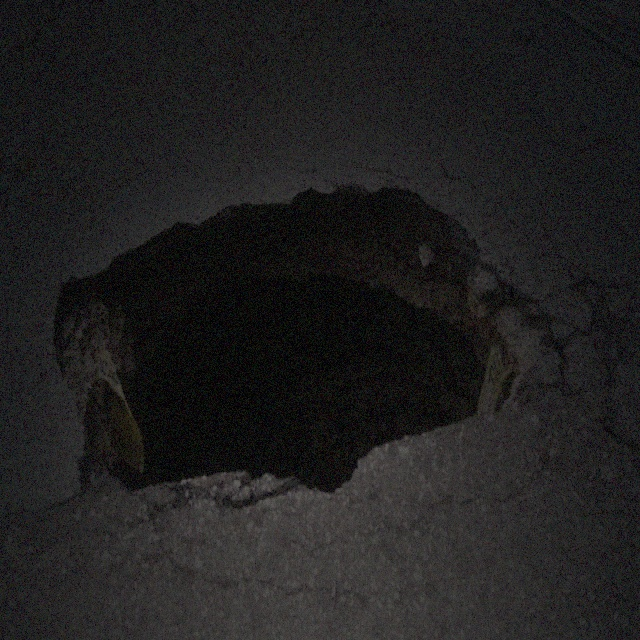pothole: (52, 153, 523, 512)
